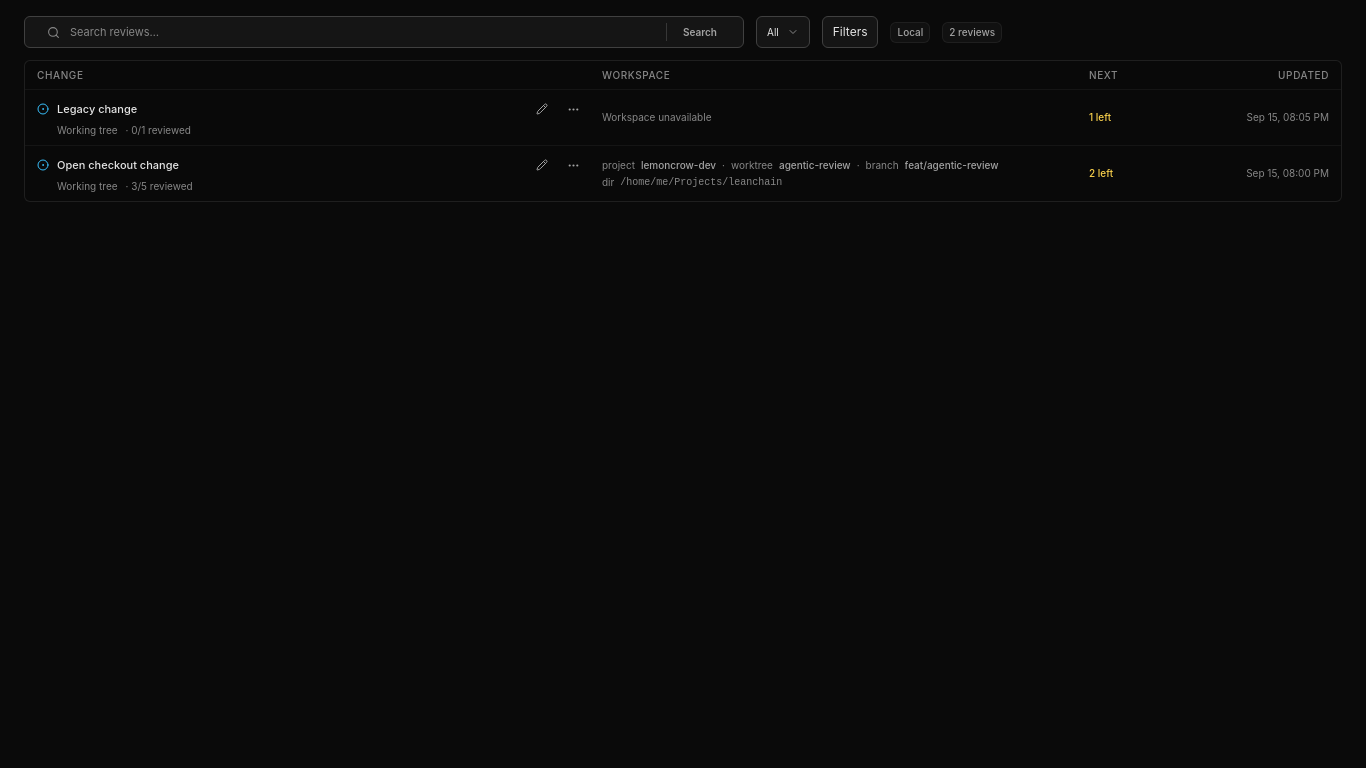
ReviewDirectory › confirms a discard by naming pending feedback and the armed landing, then sends the acknowledgement
Click the button named "More actions for Open checkout change" at [574, 165], box [562,153,586,177]
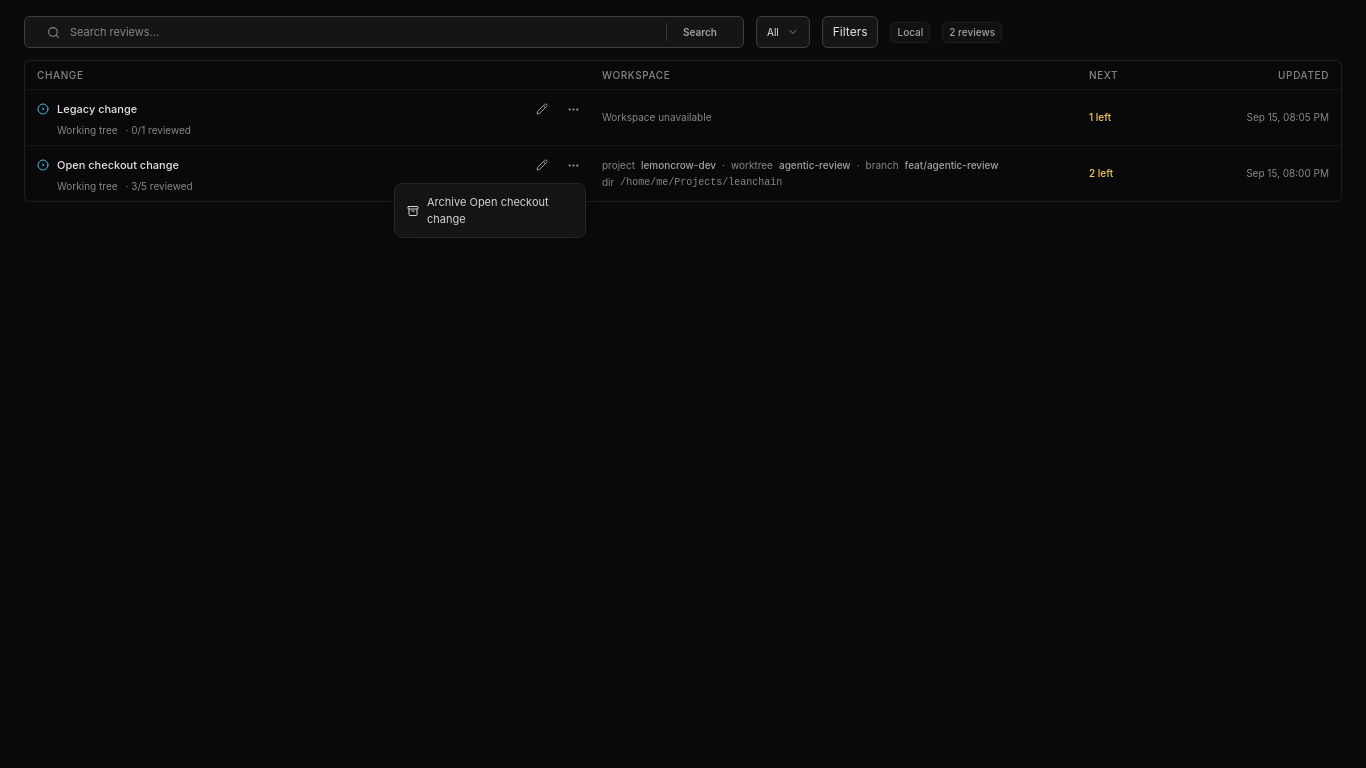
Click the menu item "Archive Open checkout change" at [478, 210], box [407,195,549,226]
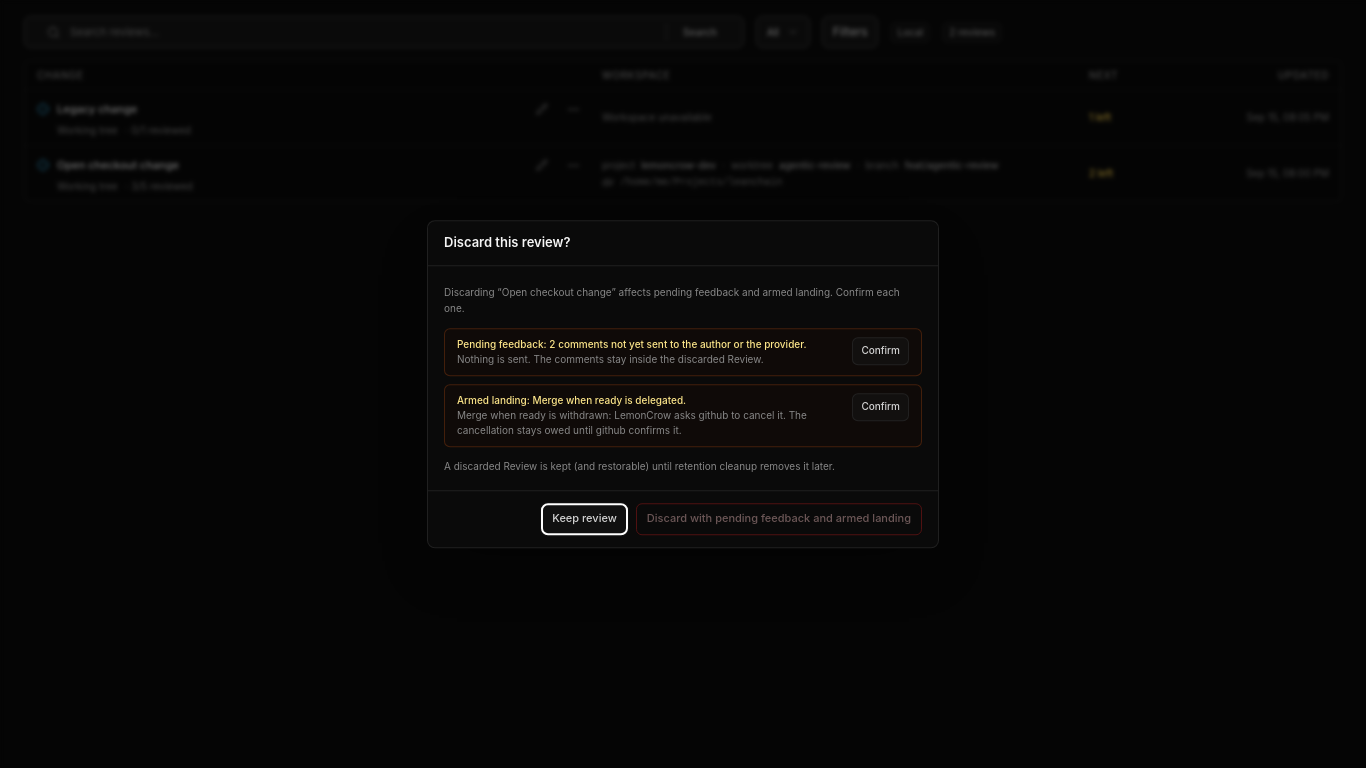
Result: the dialog shows "affects pending feedback and armed landing" at [427,220,939,548]
Result: the dialog shows "Nothing is sent. The comments stay inside the discarded Review." at [457,353,764,365]
Result: the dialog shows "The cancellation stays owed until github confirms it." at [457,409,807,436]
Click the button with aria-label "Confirm pending feedback" at [881, 351], box [852,337,909,365]
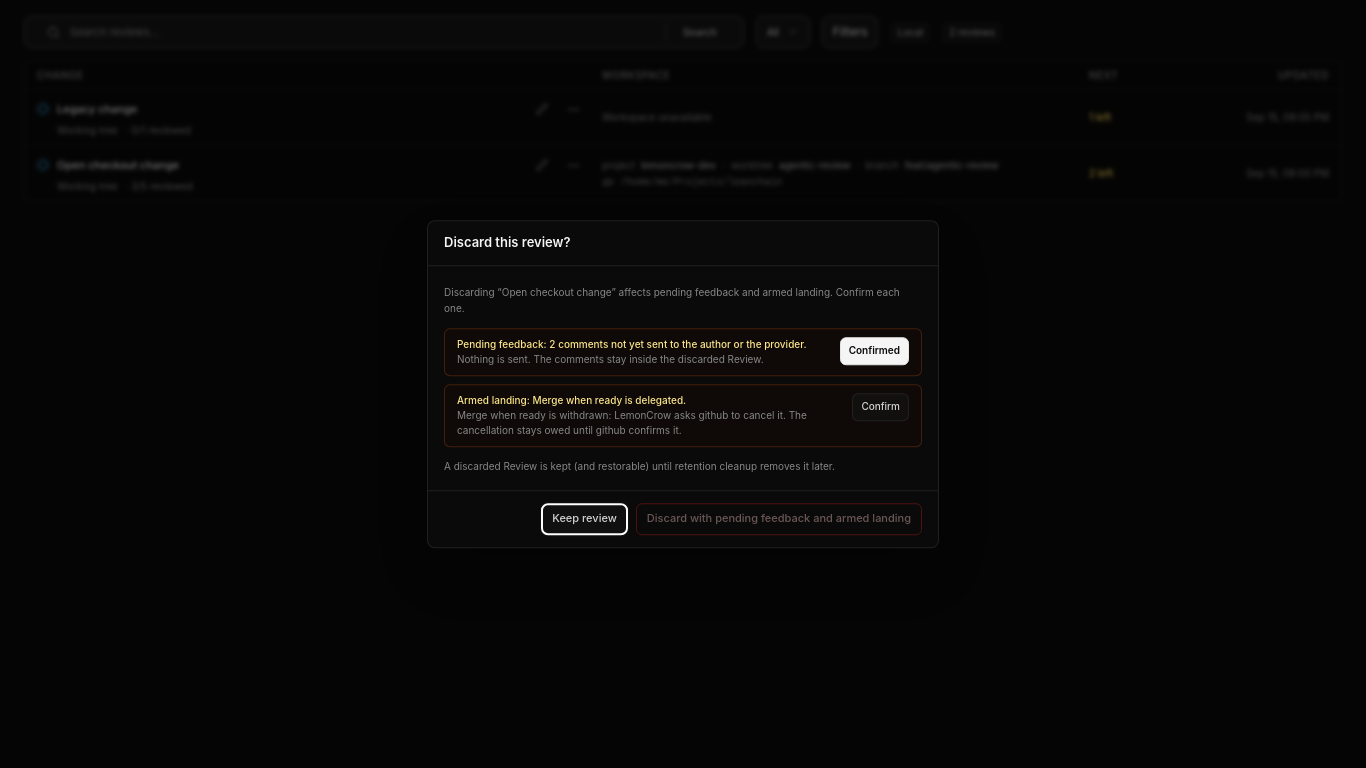
Result: the button "Discard with pending feedback and armed landing" is disabled at [636,503,922,535]
Click the button with aria-label "Confirm armed landing" at [881, 407], box [852,393,909,421]
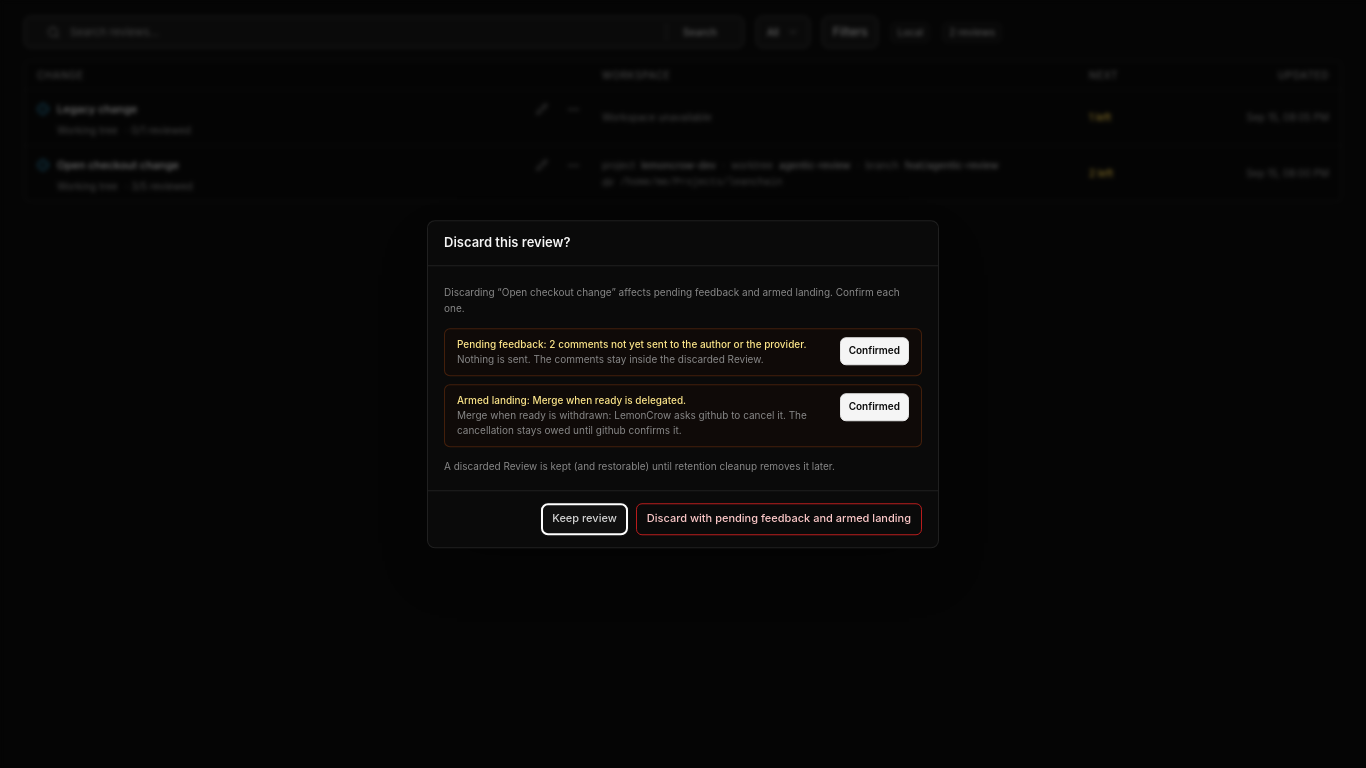
Result: the button "Discard with pending feedback and armed landing" is enabled
Click the button "Discard with pending feedback and armed landing" at [779, 519], box [636,503,922,535]
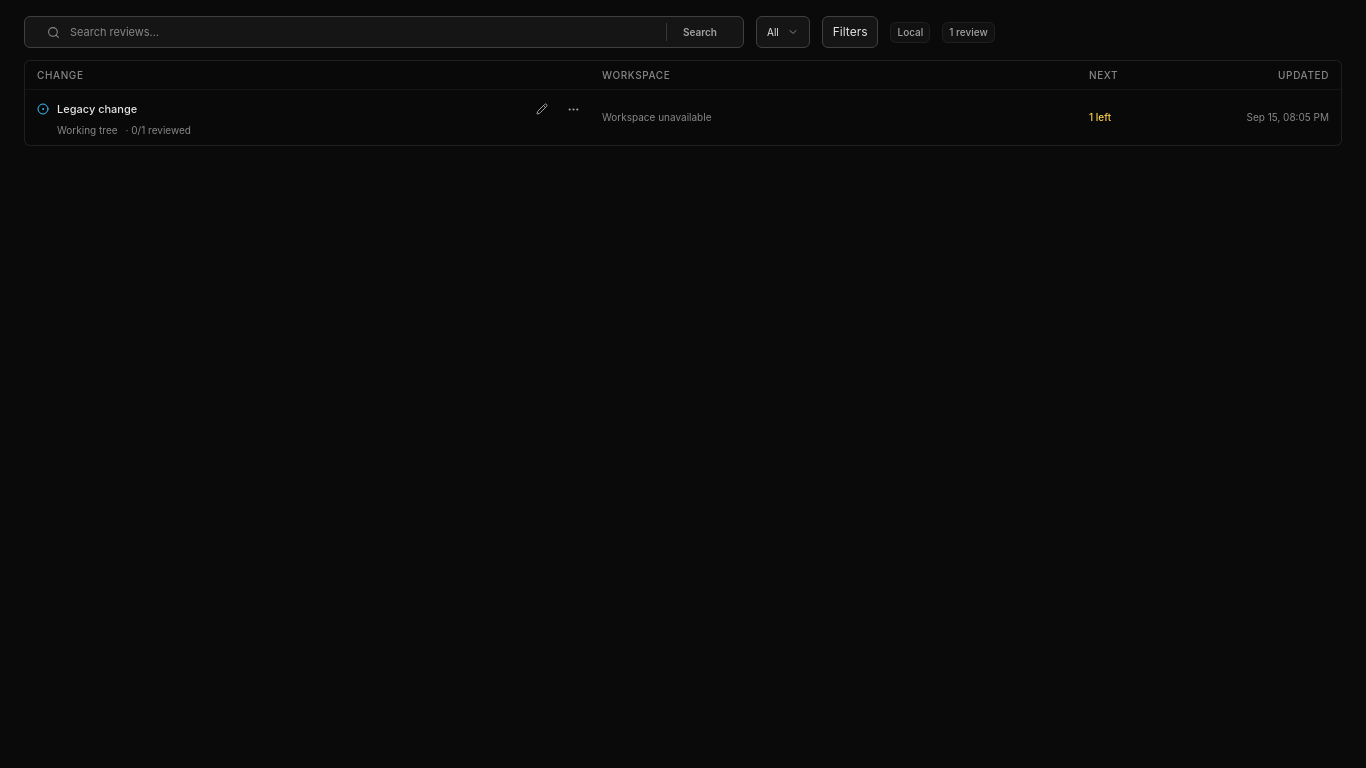
Result: the dialog is gone
